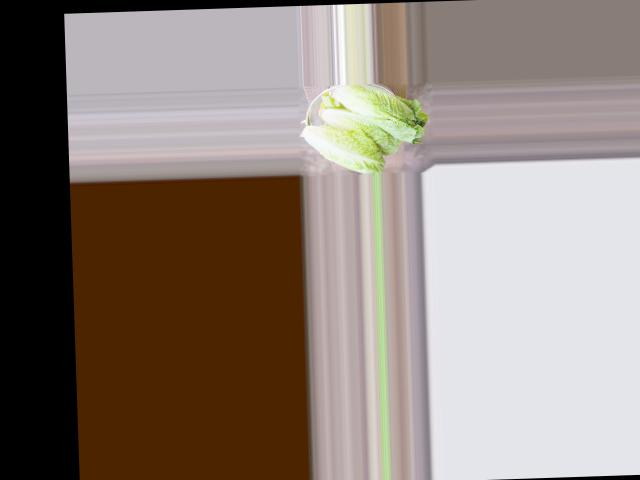lettuce: (321, 81, 425, 147)
